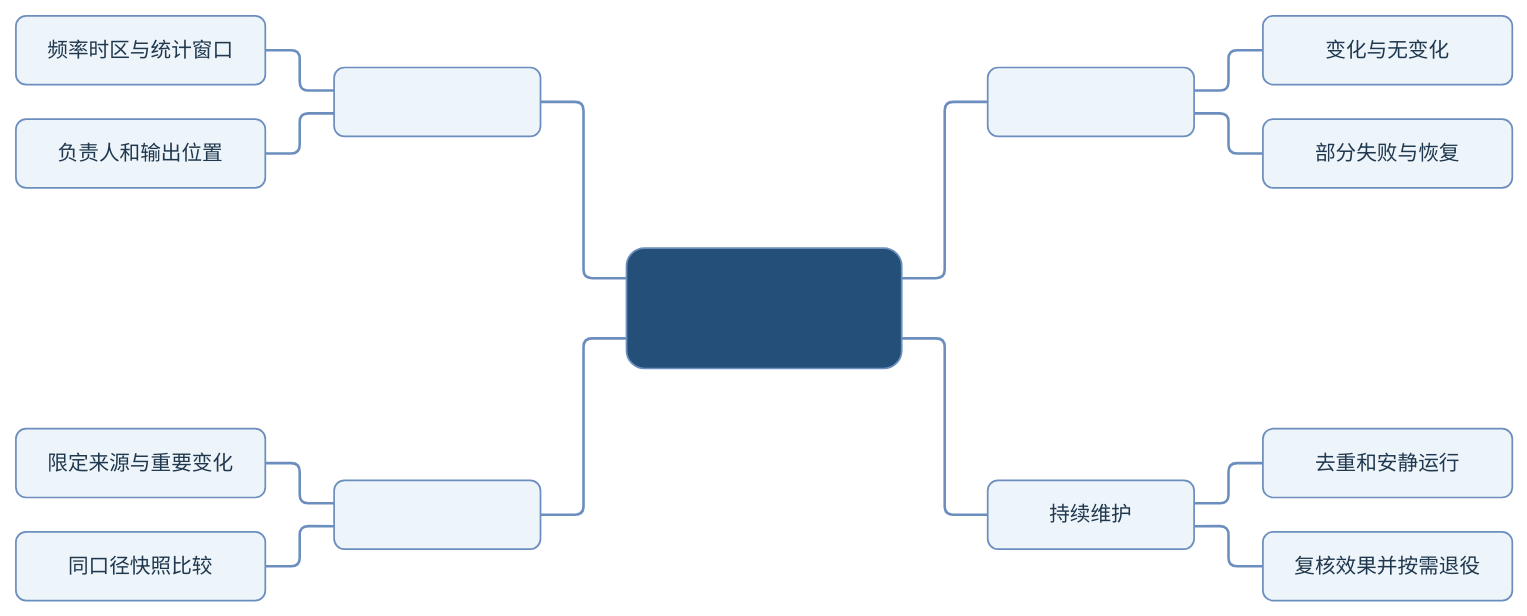
Image size: 1527x616. Some labels were removed from this diagram. The centre of each missing label's shape, as x and y in pixels:
处理更新: pixel 437 514
第9章 定时任务与流程自动化: pixel 763 308
管理状态: pixel 1090 101
设置触发: pixel 437 101
